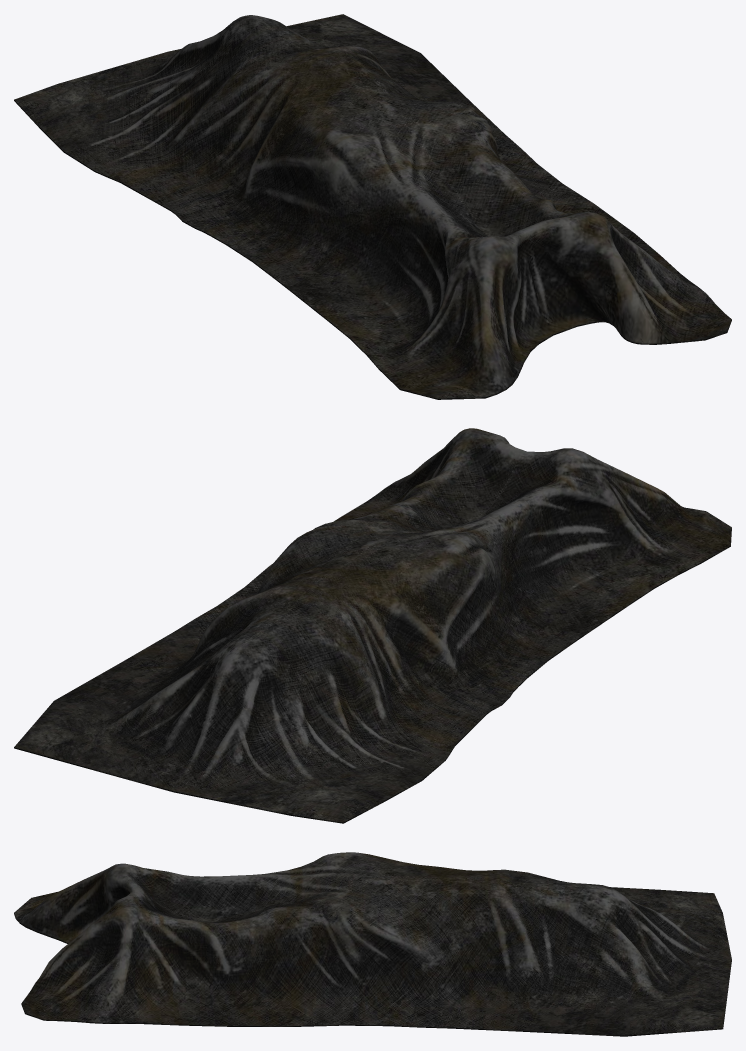
The model's file is SM_Body_Bag01.glb.
3 renders of one model, top to bottom at view 1: azimuth 30°, elevation 25°; view 2: azimuth 150°, elevation 25°; view 3: azimuth 270°, elevation 25°, orthographic. The views are drawn at different scales.
Visible parts, largest first — view 1: SM_Body_Bag01; view 2: SM_Body_Bag01; view 3: SM_Body_Bag01.
Boxes of the visible parts, <box> form: SM_Body_Bag01: <box>14,14,731,399</box>; SM_Body_Bag01: <box>14,428,731,823</box>; SM_Body_Bag01: <box>14,852,731,1036</box>.
Size of the model in its own units: 1.28 by 0.3408 by 2.6.
Materials: 1 (1 with a texture image).
